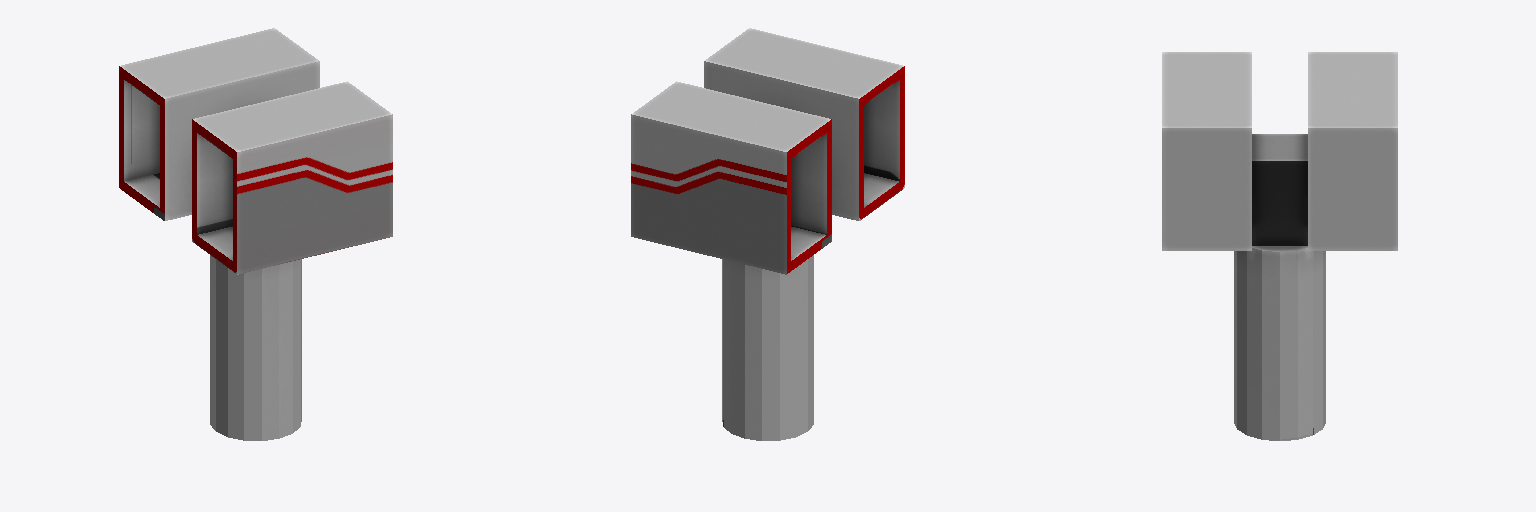
The picture shows the model from 3 angles: view 1: azimuth 30°, elevation 25°; view 2: azimuth 150°, elevation 25°; view 3: azimuth 270°, elevation 25°; orthographic projection.
Parts seen in each view (by area): view 1: Cylinder; view 2: Cylinder; view 3: Cylinder.
Boxes of the visible parts, <box> form: Cylinder: <box>119,28,392,440</box>; Cylinder: <box>631,28,904,440</box>; Cylinder: <box>1162,52,1397,440</box>.
Bounding box in the file's own units: 4.91 × 10.02 × 6.47.
1 materials, 1 textured.